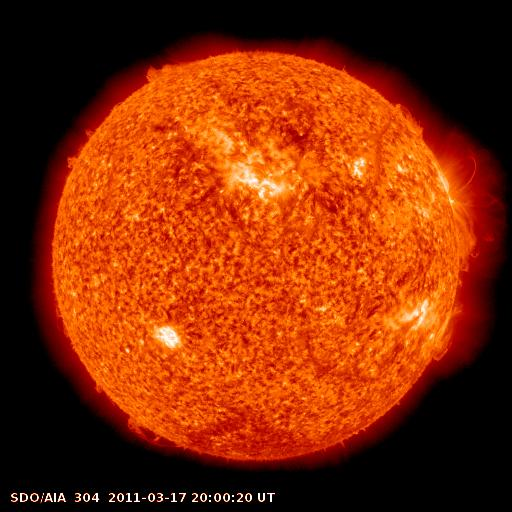prominence: (417, 301, 471, 374), (59, 122, 105, 175), (118, 413, 175, 455), (140, 52, 182, 97), (391, 99, 431, 142)
